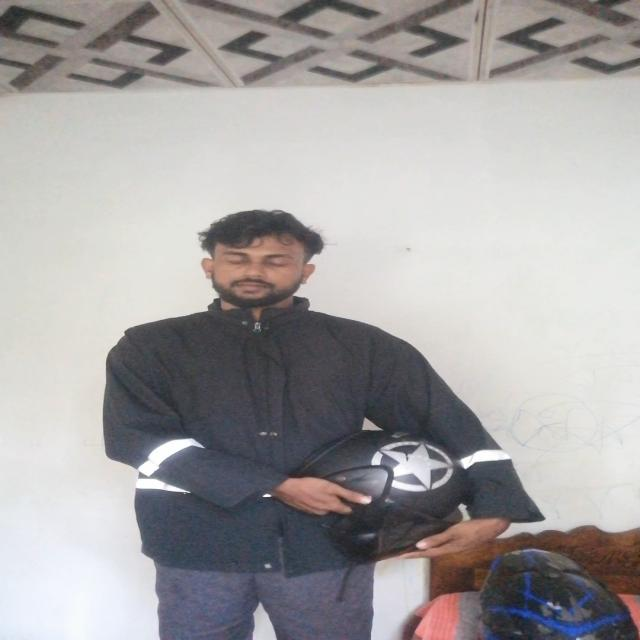Jacket_Wearer: (101, 302, 564, 596)
Person: (95, 212, 535, 636)
